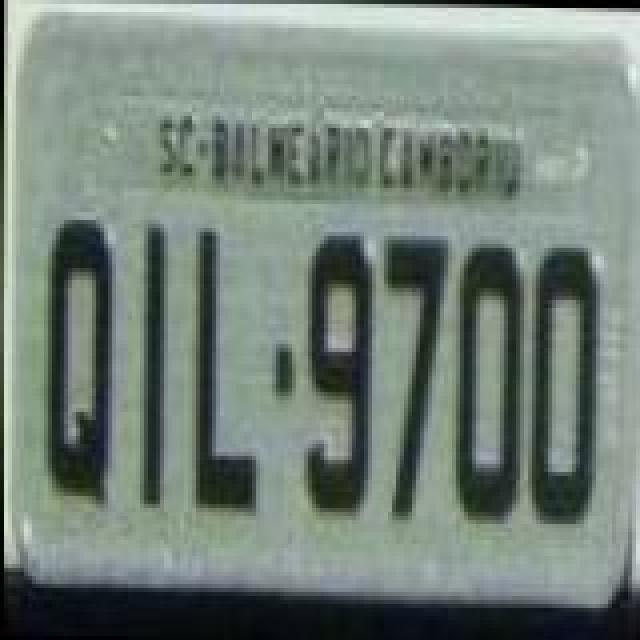1: (140, 220, 168, 512)
7: (384, 234, 452, 526)
9: (300, 228, 376, 512)
L: (192, 226, 260, 510)
O: (522, 238, 598, 530), (450, 238, 526, 522)
Q: (44, 214, 120, 514)
